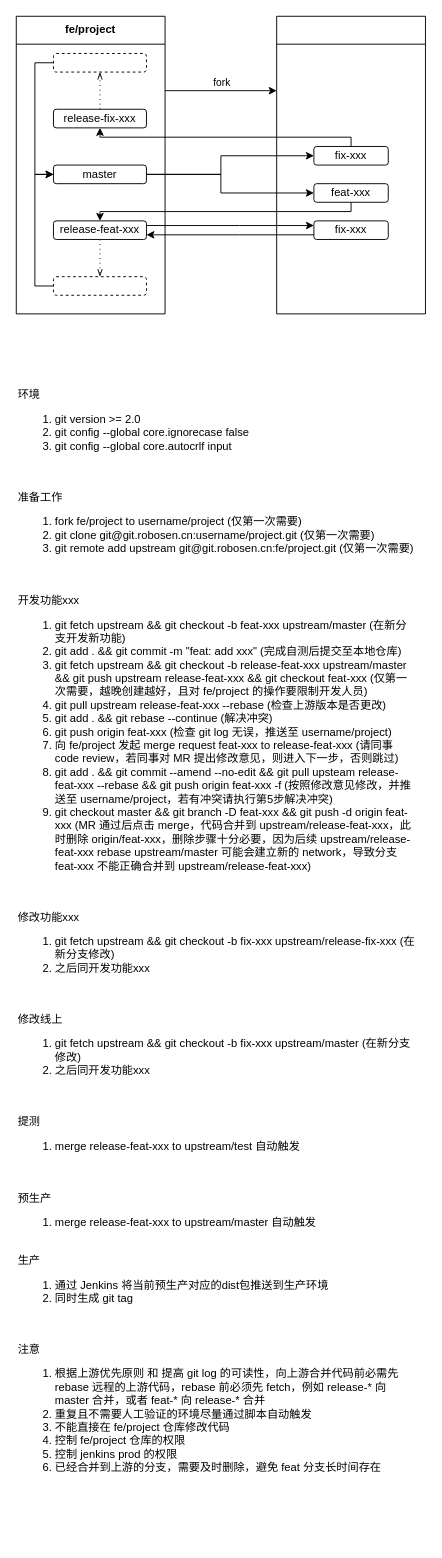
The diagram is 442 pixels wide and 1558 high, and some of its shapes have lost their labels. Here are the shapes that lost their labels. From the top down, the box of each, then its label:
(53, 53, 146, 72): tag/v1.0.1
(276, 15, 425, 314): username/project
(53, 276, 146, 295): tag/v1.0.0
